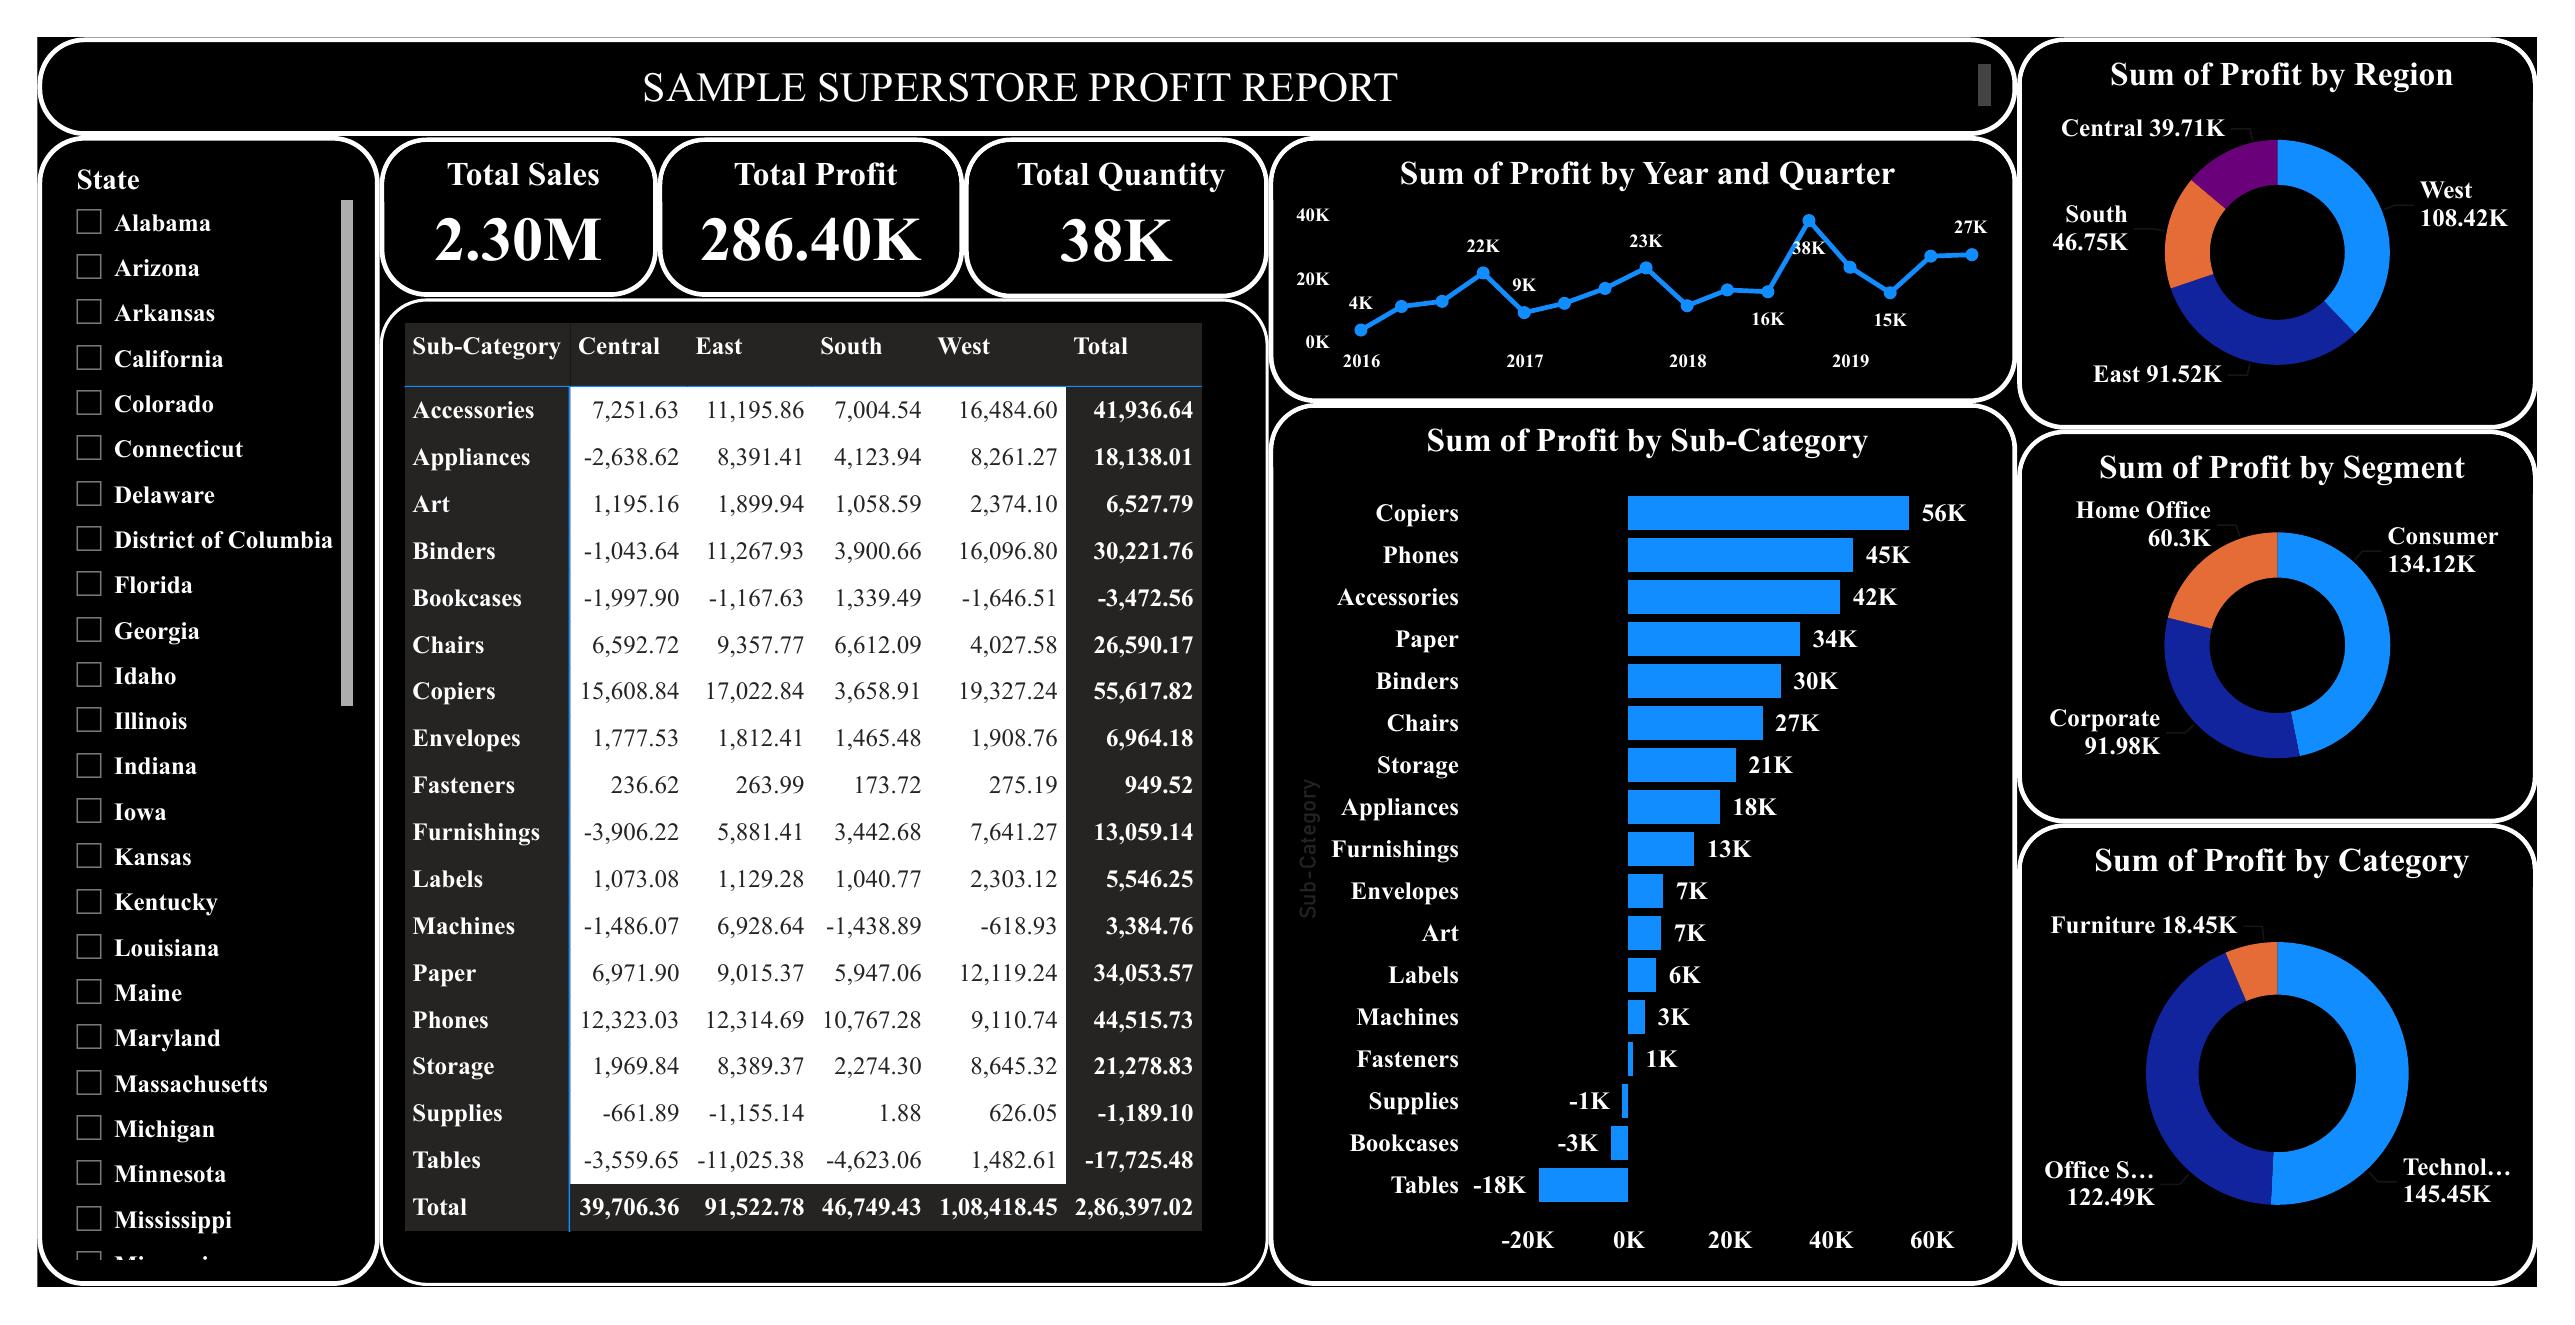

The page's visual inventory and layout, read from the dashboard file:
{"tool":"powerbi","page":{"name":"Page 1","canvas":[1600,800],"ordinal":0},"visuals":[{"type":"textbox","box":[0,0,1267.4,62.5],"z":0},{"type":"donutChart","fields":{"Y":["Sum(Orders.Profit)"],"Category":["Orders.Region"]},"box":[1267.4,0,332.8,251.5],"z":1000},{"type":"donutChart","fields":{"Y":["Sum(Orders.Profit)"],"Category":["Orders.Segment"]},"box":[1267.4,251.5,332.8,251.5],"z":2000},{"type":"donutChart","fields":{"Y":["Sum(Orders.Profit)"],"Category":["Orders.Category"]},"box":[1267.4,502.9,332.8,296.5],"z":3000},{"type":"lineChart","fields":{"Y":["Sum(Orders.Profit)"],"Category":["Orders.Order Date.Variation.Date Hierarchy.Year","Orders.Order Date.Variation.Date Hierarchy.Quarter"]},"box":[787.8,62.5,479.7,171.5],"z":4000},{"type":"clusteredBarChart","fields":{"Y":["Sum(Orders.Profit)"],"Category":["Orders.Sub-Category"]},"box":[787.8,234,479.7,565.4],"z":5000},{"type":"card","title":"Total Quantity","fields":{"Values":["Sum(Orders.Quantity)"]},"box":[593,64,194.8,103.2],"z":6000},{"type":"card","title":"Total Profit","fields":{"Values":["Sum(Orders.Profit)"]},"box":[396.8,64,196.2,101.7],"z":7000},{"type":"card","title":"Total Sales","fields":{"Values":["Sum(Orders.Sales)"]},"box":[219.5,64,177.3,101.7],"z":8000},{"type":"pivotTable","fields":{"Values":["Sum(Orders.Profit)"],"Columns":["Orders.Region"],"Rows":["Orders.Sub-Category"]},"box":[219.5,167.2,568.3,632.3],"z":9000},{"type":"slicer","fields":{"Values":["Orders.State"]},"box":[0,62.5,219.5,736.9],"z":9001}]}

Visuals, with their boxes in screenshot pixels (x1, y1, x2, y2):
textbox: [x1=20, y1=27, x2=2032, y2=126]
donutChart - Sum(Orders.Profit) x Orders.Region: [x1=2032, y1=27, x2=2560, y2=426]
donutChart - Sum(Orders.Profit) x Orders.Segment: [x1=2032, y1=426, x2=2560, y2=825]
donutChart - Sum(Orders.Profit) x Orders.Category: [x1=2032, y1=825, x2=2560, y2=1296]
lineChart - Sum(Orders.Profit) x Orders.Order Date.Variation.Date Hierarchy.Year: [x1=1270, y1=126, x2=2032, y2=398]
clusteredBarChart - Sum(Orders.Profit) x Orders.Sub-Category: [x1=1270, y1=398, x2=2032, y2=1296]
"Total Quantity" card: [x1=961, y1=128, x2=1270, y2=292]
"Total Profit" card: [x1=650, y1=128, x2=961, y2=290]
"Total Sales" card: [x1=368, y1=128, x2=650, y2=290]
pivotTable - Sum(Orders.Profit) x Orders.Region: [x1=368, y1=292, x2=1270, y2=1296]
slicer - Orders.State: [x1=20, y1=126, x2=368, y2=1296]
